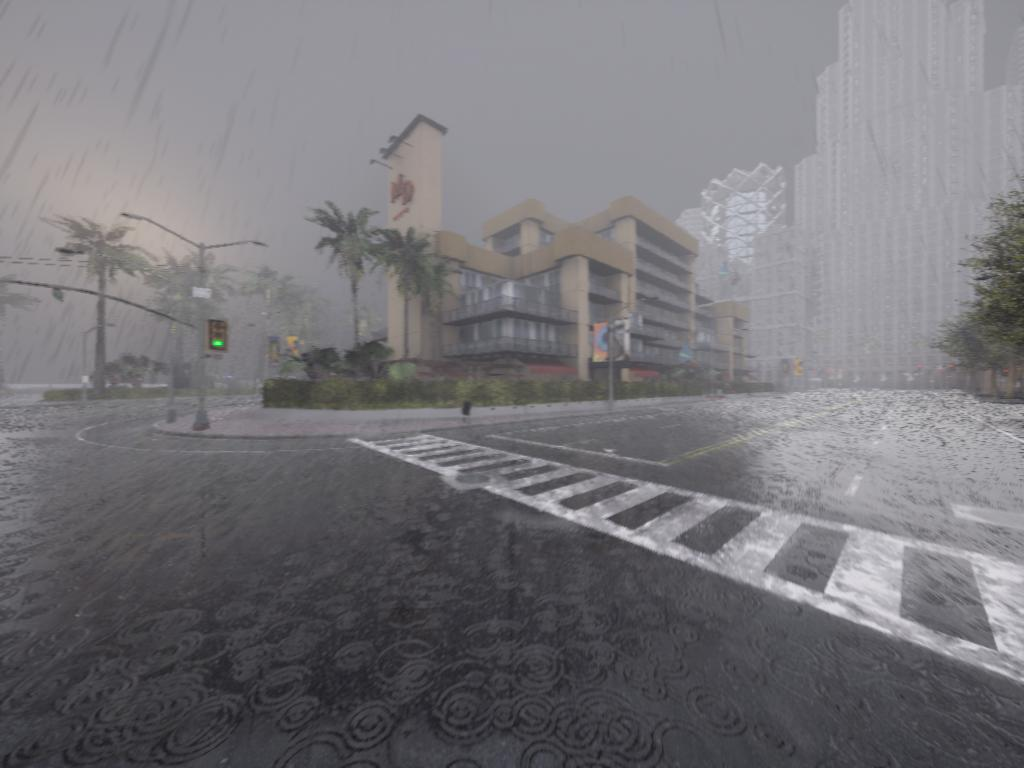traffic_light: (208, 320, 230, 352)
